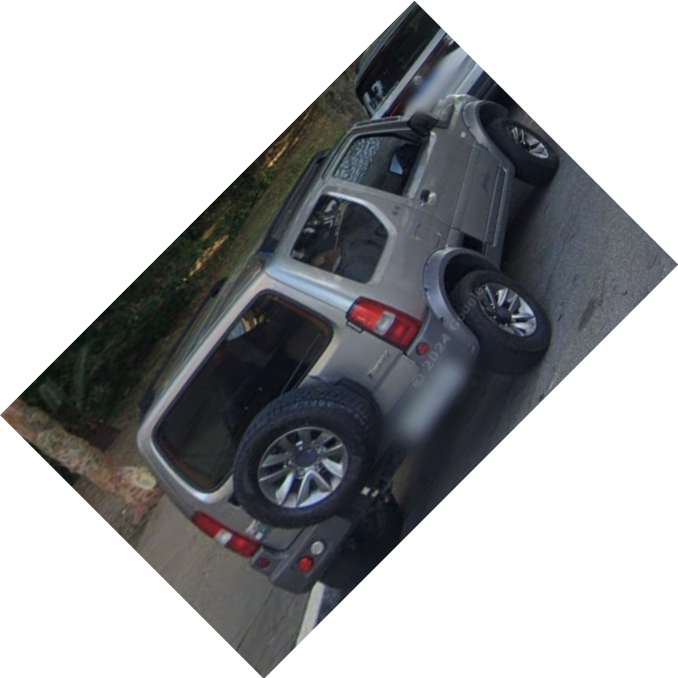car: (133, 90, 567, 597)
